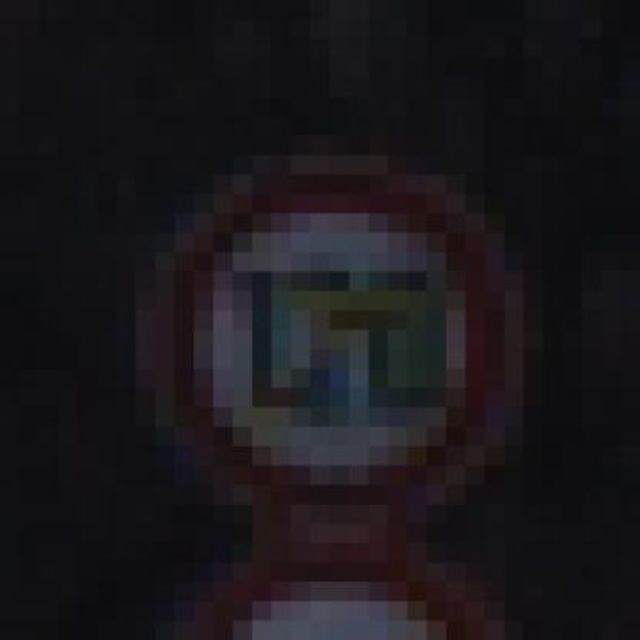Tốc độ tối đa cho phép 120km/h: (161, 172, 503, 521)
